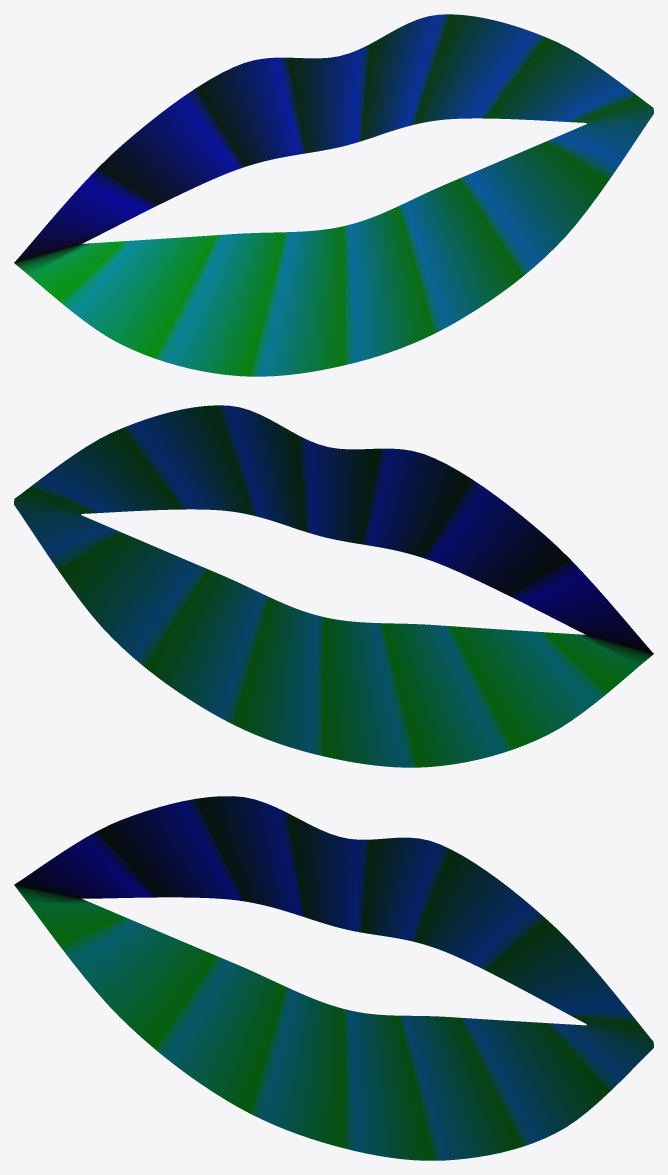
File: lips_2D_new_studio.fbx
3 renders of one model, top to bottom at view 1: azimuth 30°, elevation 25°; view 2: azimuth 150°, elevation 25°; view 3: azimuth 330°, elevation 25°, orthographic.
Visible parts, largest first — view 1: lips_2D; view 2: lips_2D; view 3: lips_2D.
Part boxes in pixels (bbox=[...]): lips_2D: bbox=[14, 14, 653, 376]; lips_2D: bbox=[14, 405, 653, 767]; lips_2D: bbox=[14, 796, 653, 1160].
Size of the model in its own units: 6.5 by 3.19 by 5.2e-07.
